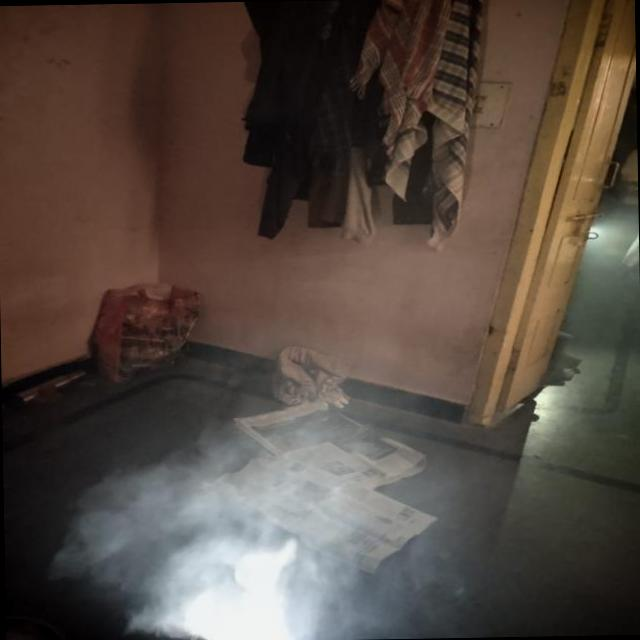smoke: (112, 453, 338, 640)
